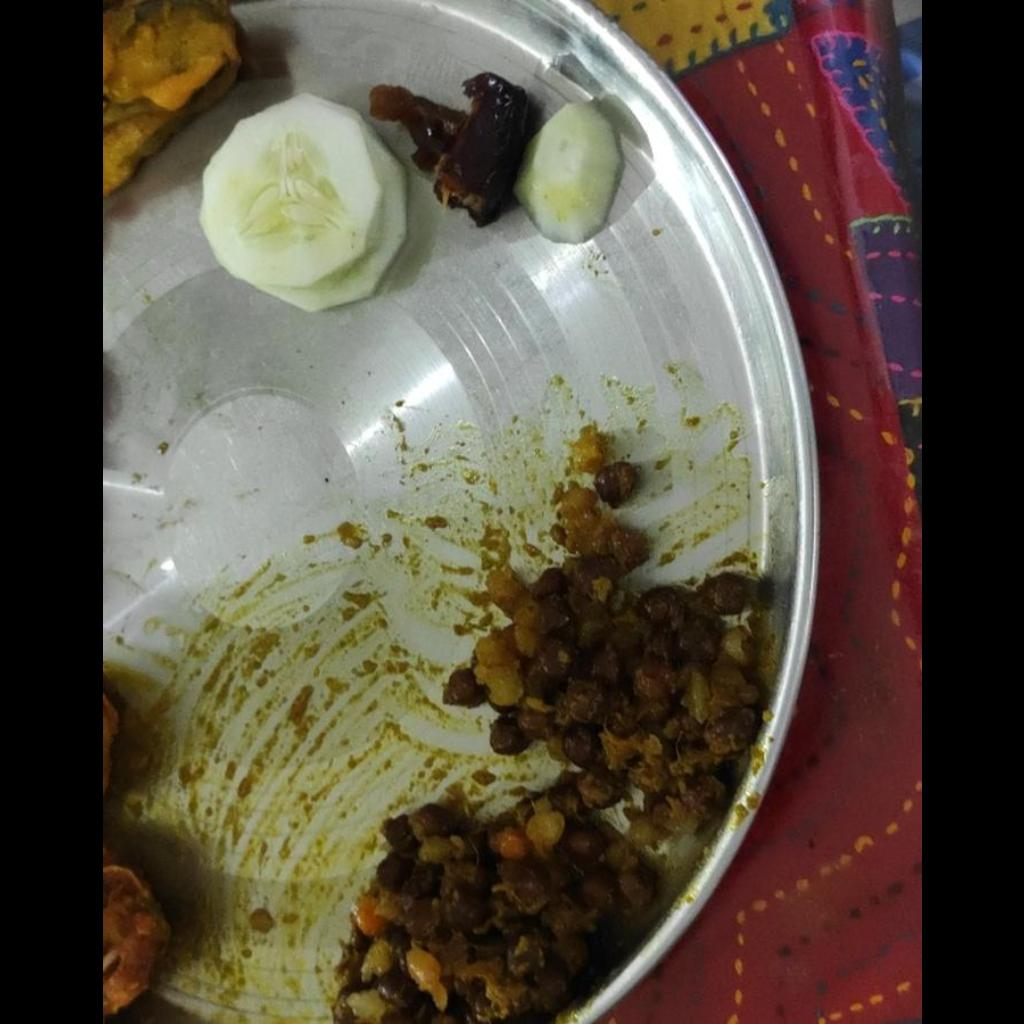chola: (328, 463, 763, 1020)
chop-alu: (102, 0, 244, 201)
cucumber: (202, 95, 408, 311), (514, 101, 622, 243)
dates: (368, 73, 538, 225)
